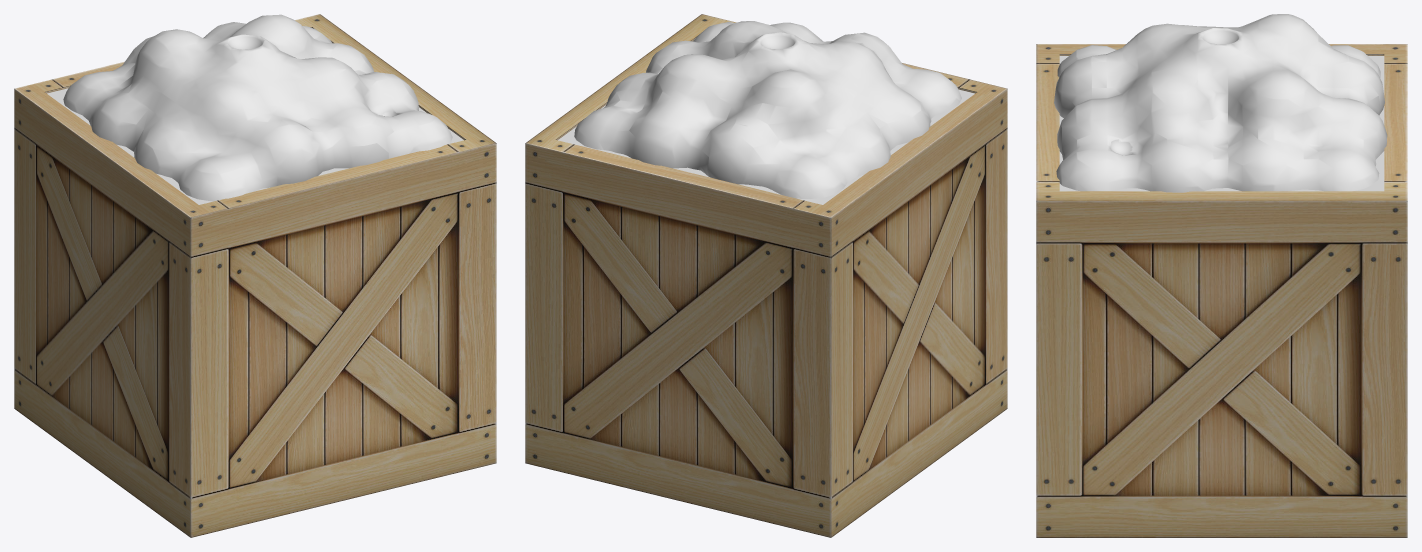
Rendered from snowball crate.fbx.
The picture shows the model from 3 angles, left to right: view 1: azimuth 30°, elevation 25°; view 2: azimuth 150°, elevation 25°; view 3: azimuth 270°, elevation 25°; orthographic projection. The views are drawn at different scales.
Visible parts, largest first — view 1: crate; view 2: crate; view 3: crate.
Part boxes in pixels (box(x1,y1,x2,y2)): crate: box(14, 14, 496, 537); crate: box(525, 14, 1007, 537); crate: box(1036, 14, 1407, 537).
Size of the model in its own units: 200 by 249 by 200.
